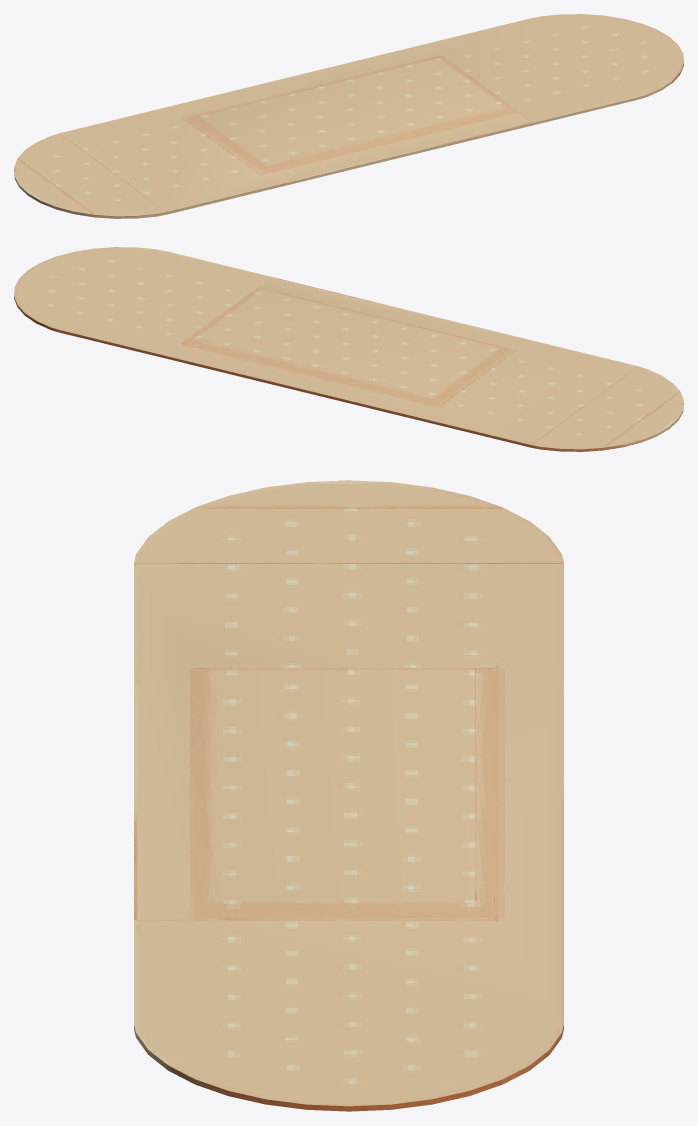
Rendered from band_aid.glb.
3 renders of one model, top to bottom at view 1: azimuth 30°, elevation 25°; view 2: azimuth 150°, elevation 25°; view 3: azimuth 270°, elevation 25°, orthographic. The views are drawn at different scales.
Visible parts, largest first — view 1: mesh; view 2: mesh; view 3: mesh.
Part boxes in pixels (left/top/right/bottom): mesh: left=14, top=14, right=683, bottom=218; mesh: left=14, top=247, right=683, bottom=451; mesh: left=134, top=480, right=563, bottom=1111.
Size of the model in its own units: 0.62 by 0.00999 by 0.1801.
1 material, 1 textured.
